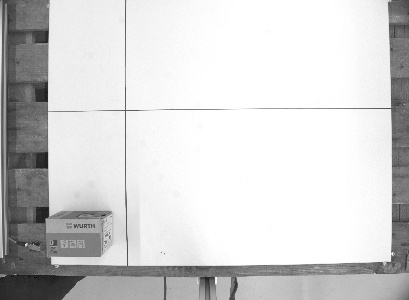b4: (43, 208, 115, 259)
